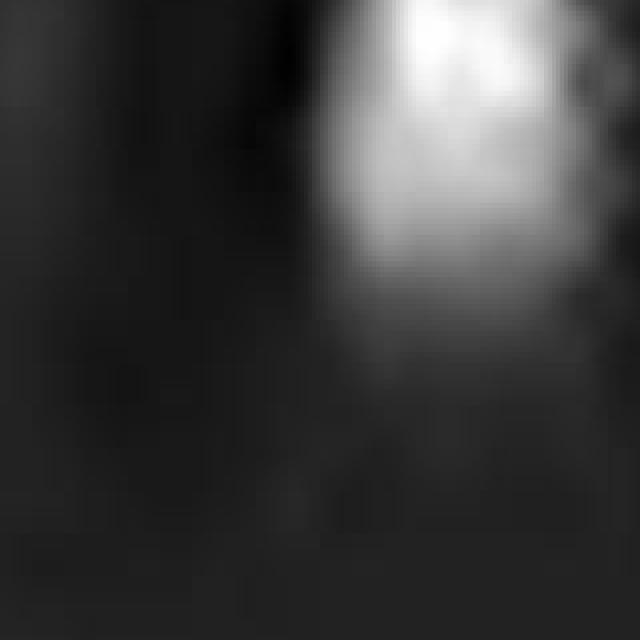person: (293, 1, 621, 390)
